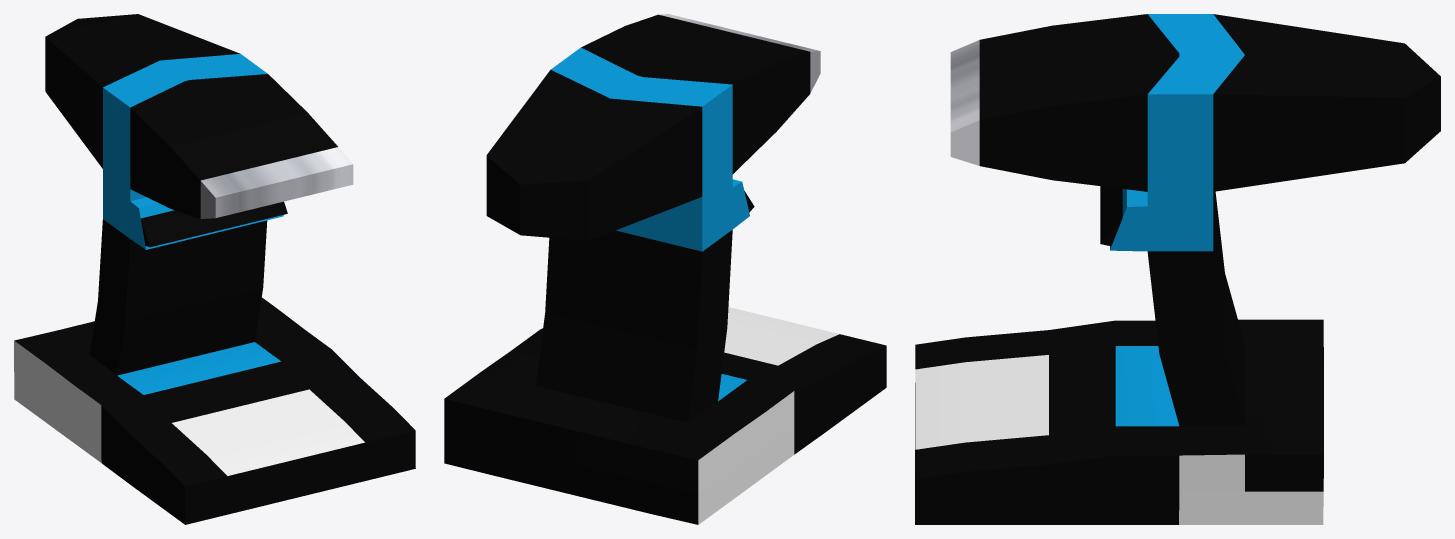
The model's file is uploads_files_943470_drill.FBX.
3 views of the same model, side by side, from view 1: azimuth 30°, elevation 25°; view 2: azimuth 150°, elevation 25°; view 3: azimuth 270°, elevation 25° (orthographic). The views are drawn at different scales.
Visible parts, largest first — view 1: Box001; view 2: Box001; view 3: Box001.
Part boxes in pixels (x1,y1,x2,y2): Box001: (14, 14, 415, 524); Box001: (444, 14, 886, 524); Box001: (915, 14, 1440, 524).
Size of the model in its own units: 66.72 by 92.83 by 110.
Materials: 6 (4 with a texture image).
